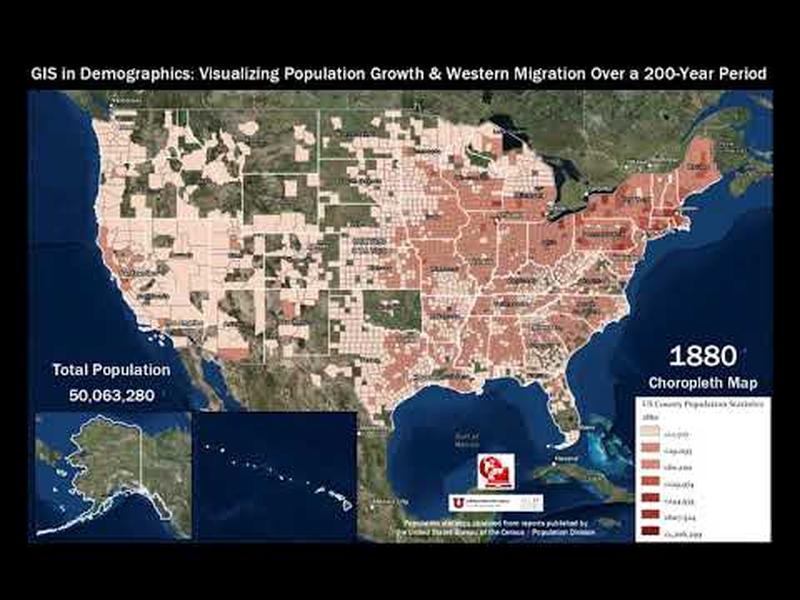legend: (634, 396, 771, 544)
